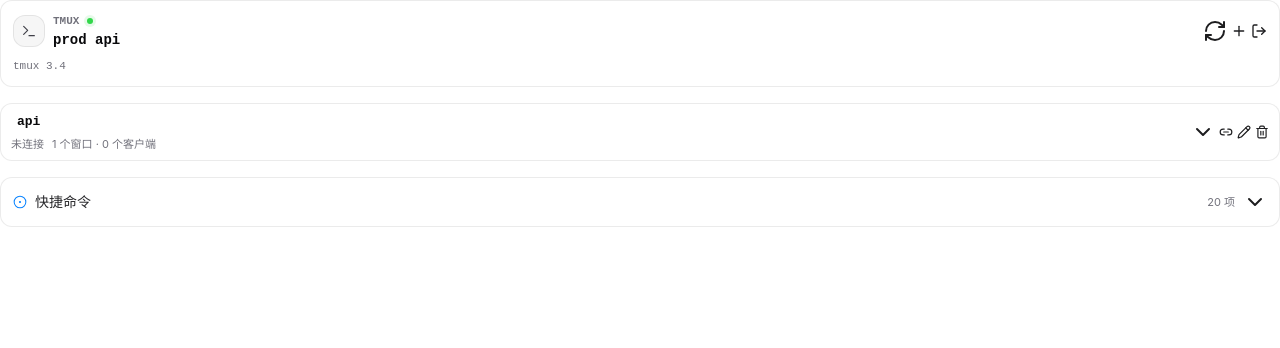
Test: TmuxToolContent › renders tmux sessions with details and quick commands collapsed by default
The width and height of the screenshot is (1280, 348).
Expected: the text "tmux 3.4" is shown, left=13, top=60, right=66, bottom=72
Expected: the heading "api" is shown, left=17, top=112, right=40, bottom=132
Click the button named "展开 api 详情" at point(1203, 132), box left=1191, top=120, right=1215, bottom=144
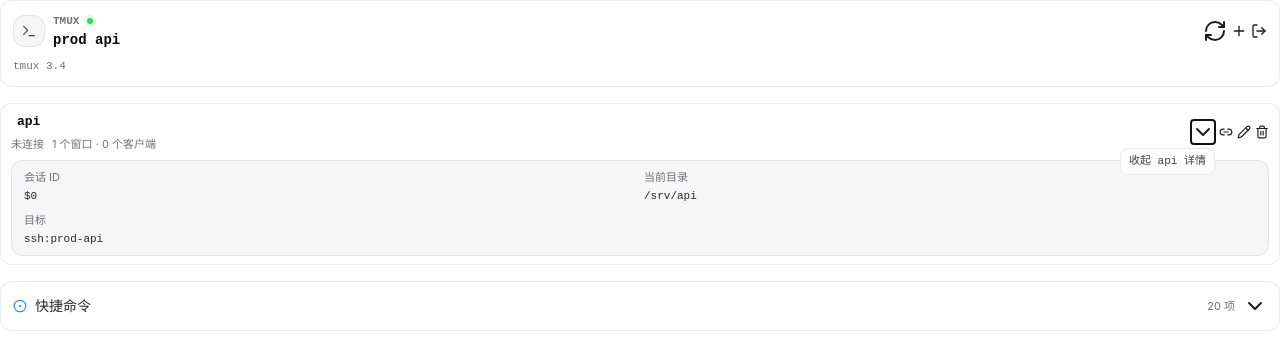
Expected: the text "/srv/api" is shown, left=644, top=190, right=697, bottom=202
Expected: the text "$0" is shown, left=24, top=190, right=37, bottom=202
Expected: the text "ssh:prod-api" is shown, left=24, top=232, right=103, bottom=244
